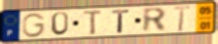0: (49, 12, 70, 37)
G: (21, 13, 47, 39)
R: (142, 7, 168, 34)
T: (83, 9, 104, 36), (173, 5, 193, 33), (111, 9, 131, 34)
